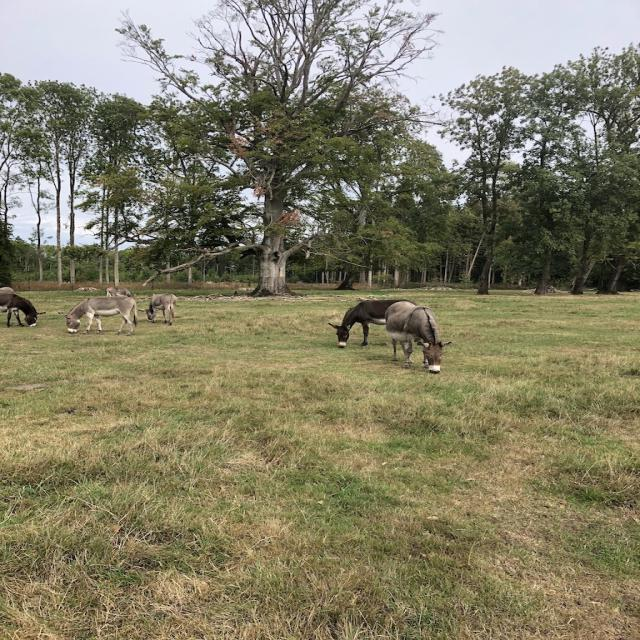Donkey: (384, 300, 454, 374), (327, 298, 419, 349), (57, 296, 138, 336), (0, 293, 47, 328), (137, 292, 178, 326), (105, 286, 134, 298)
